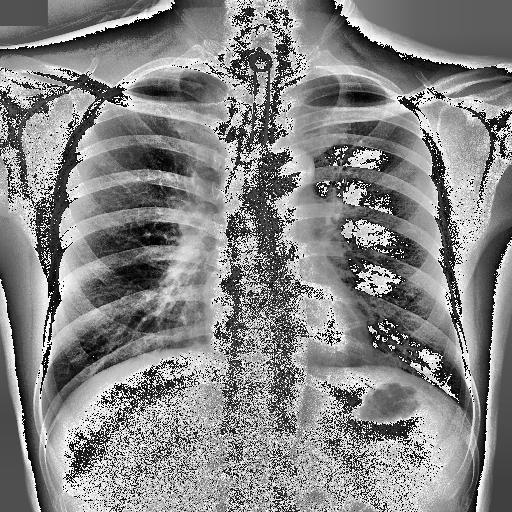0- Aortic enlargement: (270, 146, 316, 188)
11- Pleural thickening: (139, 64, 220, 86), (136, 61, 216, 81)
